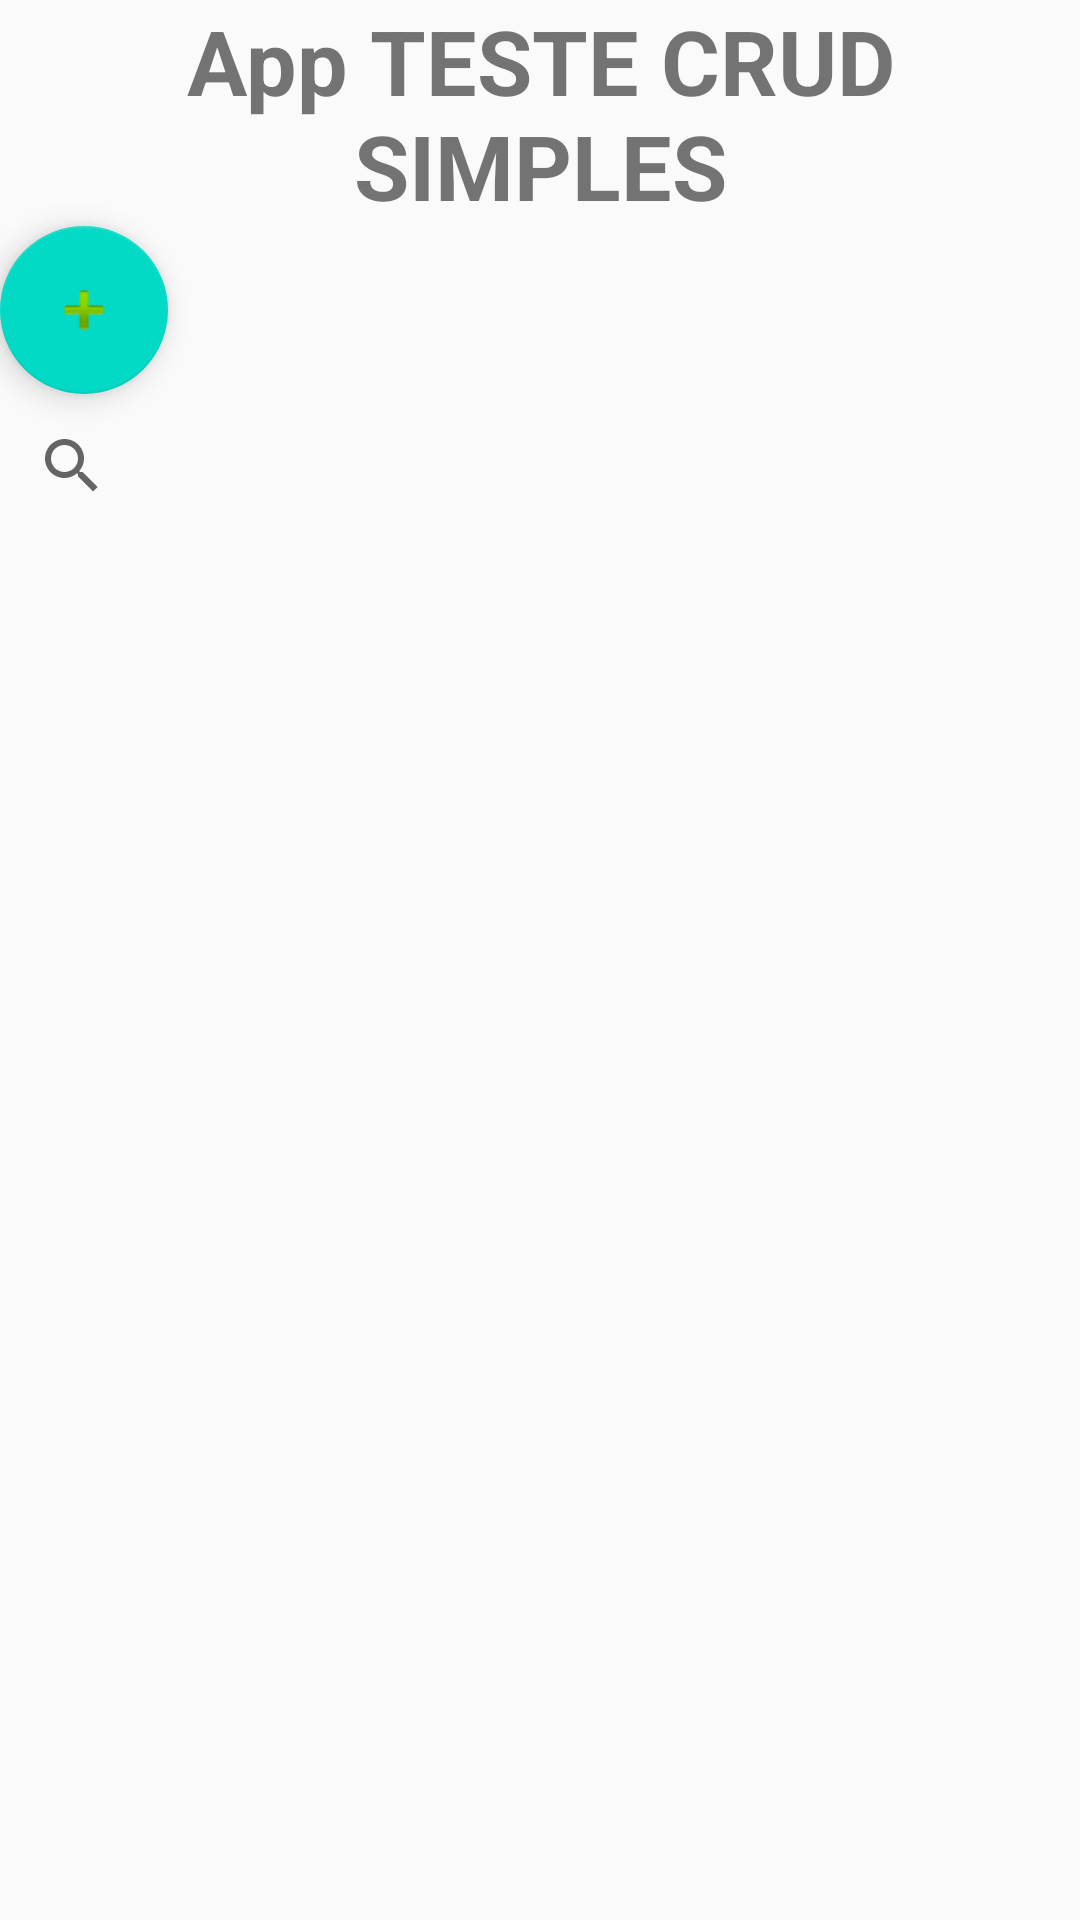

Icon bounding boxes for this 1080px×1920px phone screenshot, format (x1, y1, x2, y2):
add: (0, 226, 168, 394)
